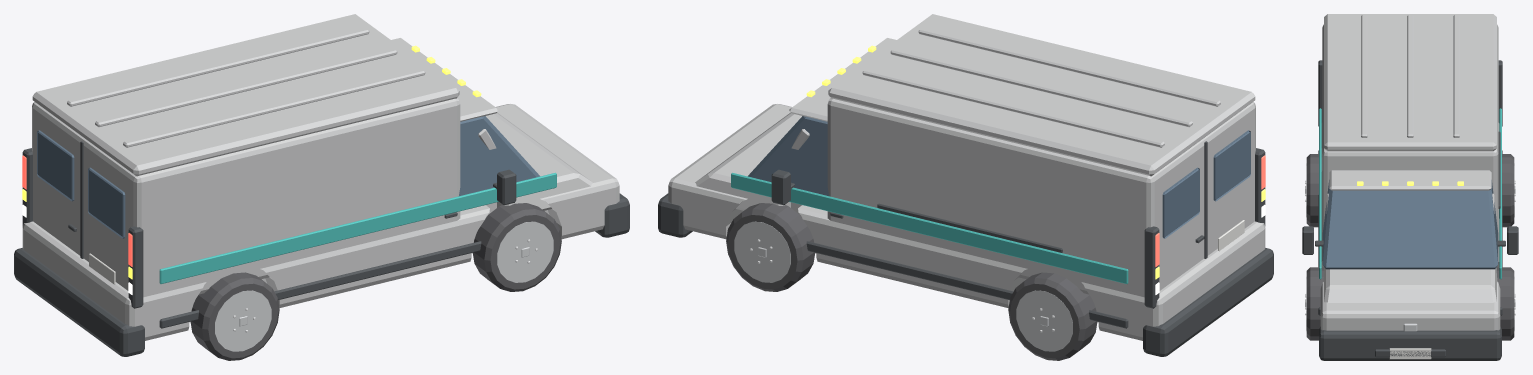
File: DeliveryVan.glb
The picture shows the model from 3 angles, left to right: view 1: azimuth 30°, elevation 25°; view 2: azimuth 150°, elevation 25°; view 3: azimuth 270°, elevation 25°; orthographic projection. The views are drawn at different scales.
Visible parts, largest first — view 1: Van_Body, Van_Wheel_FR, Van_Wheel_RR; view 2: Van_Body, Van_Wheel_FL, Van_Wheel_RL; view 3: Van_Body, Van_Wheel_FL, Van_Wheel_FR, Van_Wheel_RR, Van_Wheel_RL.
Boxes of the visible parts, <box> form: Van_Body: <box>14,14,629,356</box>; Van_Wheel_FR: <box>472,203,561,291</box>; Van_Wheel_RR: <box>190,272,279,360</box>; Van_Body: <box>658,14,1273,356</box>; Van_Wheel_FL: <box>726,203,815,291</box>; Van_Wheel_RL: <box>1008,272,1097,360</box>; Van_Body: <box>1302,14,1518,360</box>; Van_Wheel_FL: <box>1496,267,1515,340</box>; Van_Wheel_FR: <box>1305,267,1324,340</box>; Van_Wheel_RR: <box>1305,154,1322,227</box>; Van_Wheel_RL: <box>1502,154,1515,227</box>.
Bounding box in the file's own units: 5.81 × 2.32 × 2.58.
